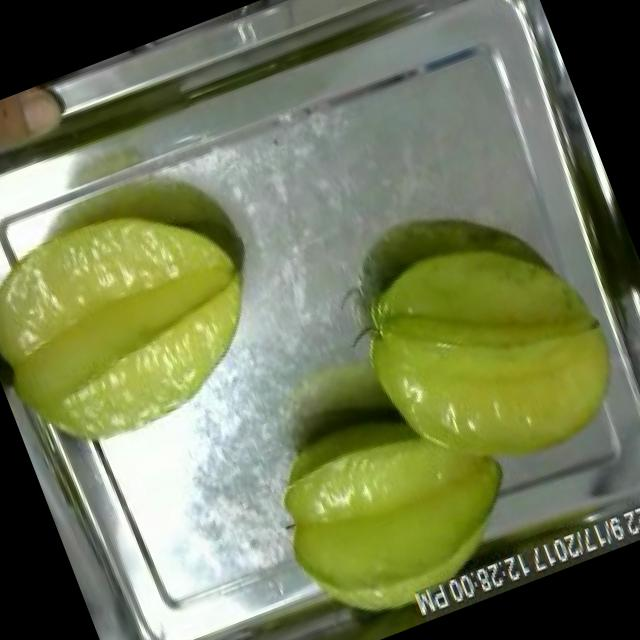fruit: (322, 191, 640, 518), (0, 162, 295, 478), (250, 383, 549, 640), (0, 77, 84, 200)
